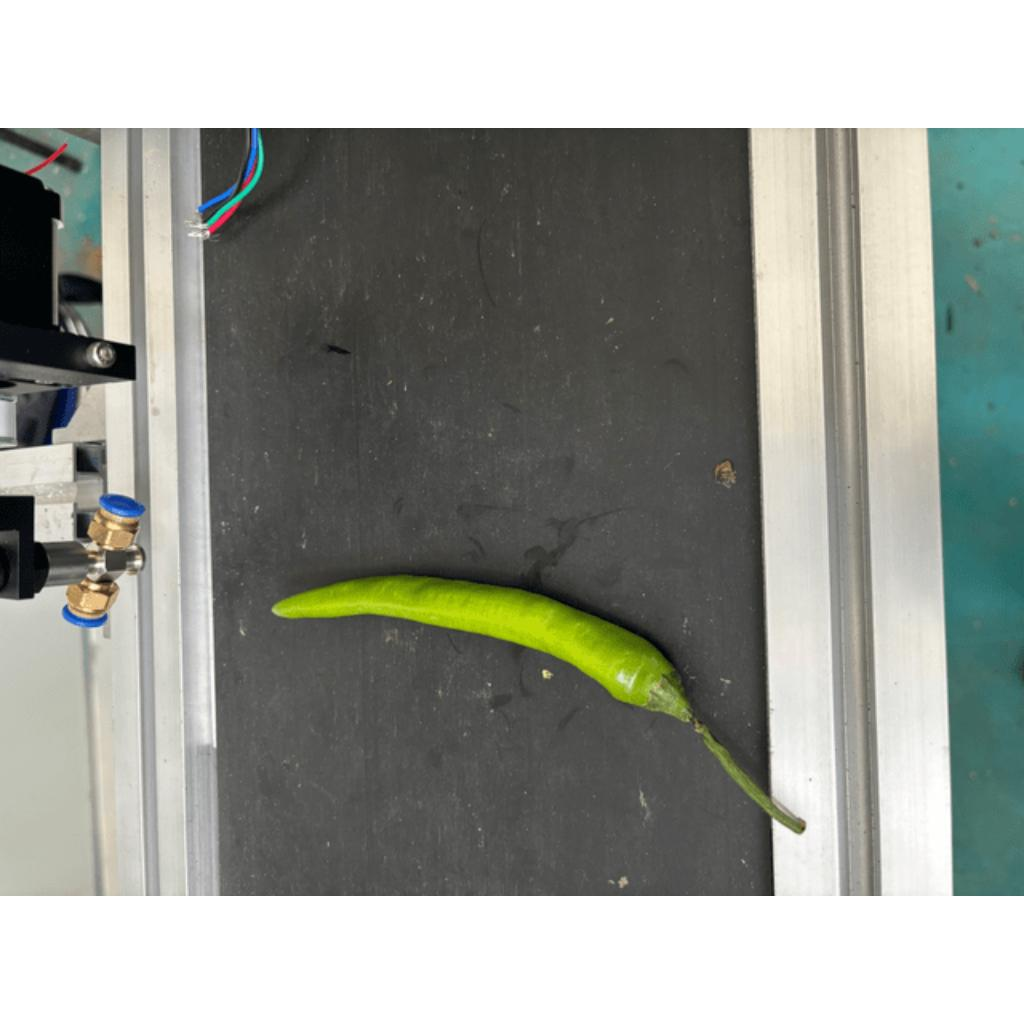chili: (270, 574, 685, 722)
